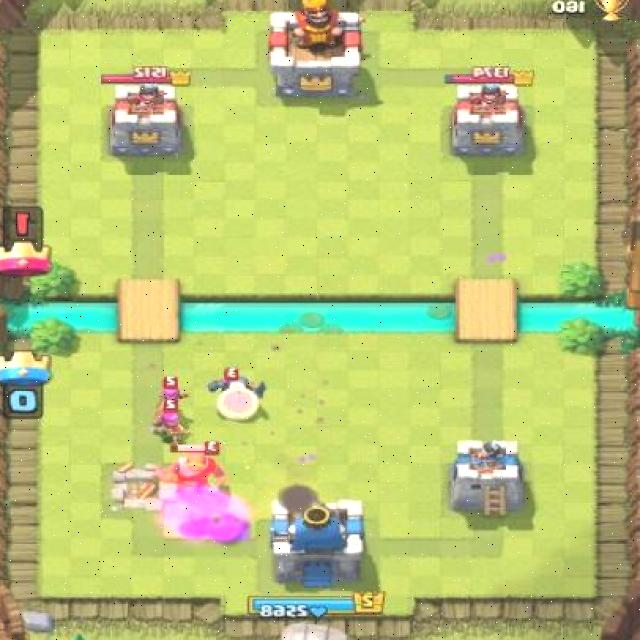Enemy-Archer: (147, 398, 192, 450), (152, 374, 192, 417)
Enemy-Knight: (156, 439, 232, 499)
Enemy-MiniPEKKA: (205, 365, 268, 423)
